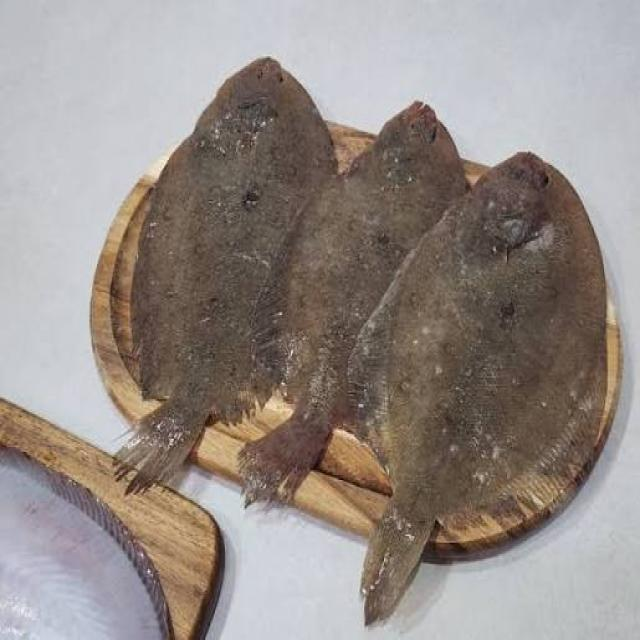yellow_striped_flounder: (339, 135, 618, 633), (104, 45, 347, 517), (234, 87, 475, 538)
